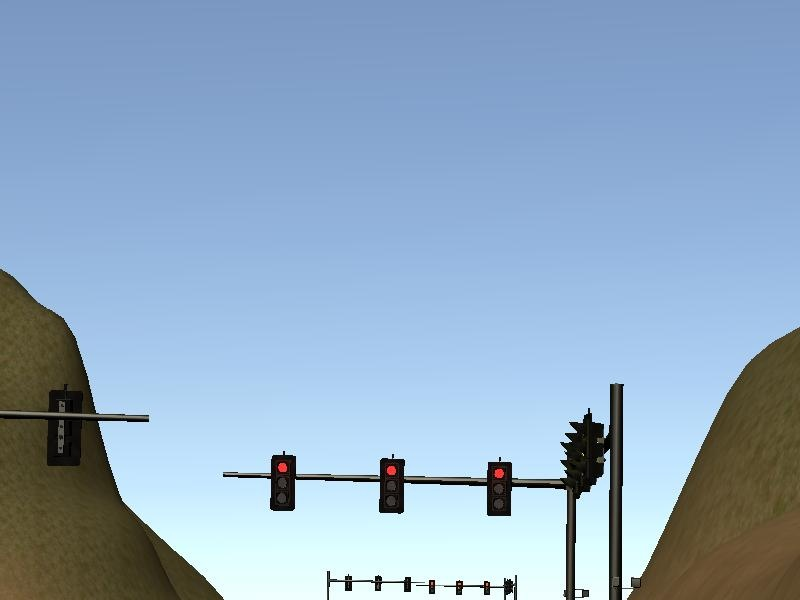red: (271, 450, 300, 514), (376, 455, 407, 514), (484, 459, 515, 516)
